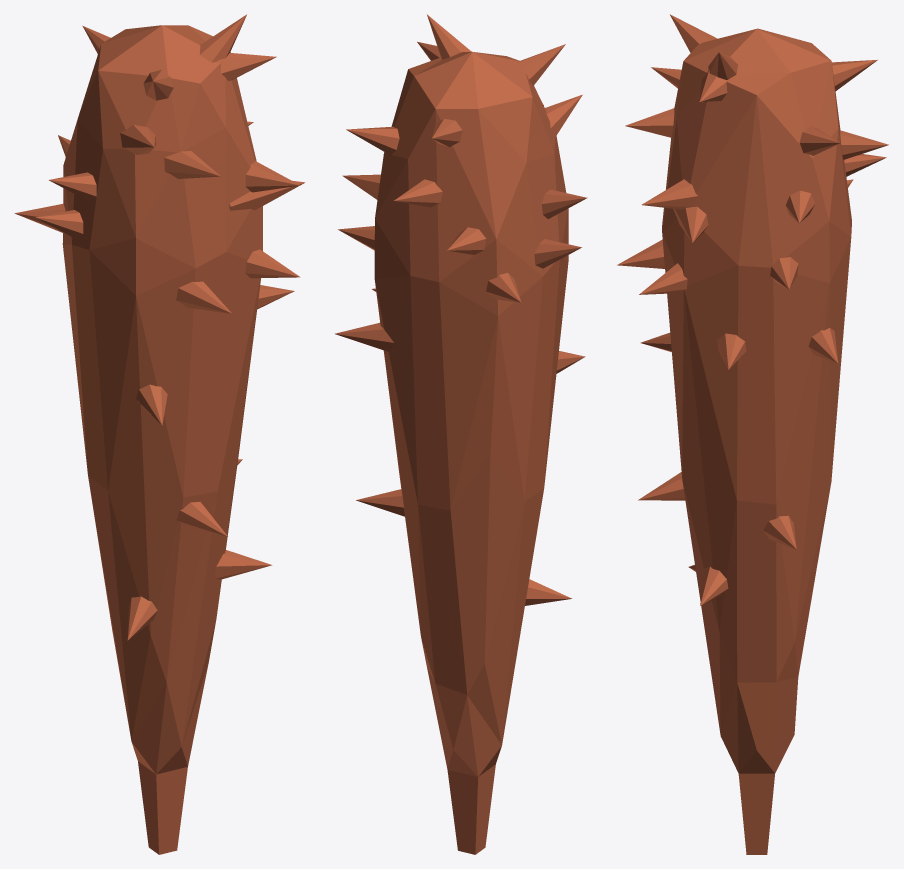
File: weapon cudgel.fbx
3 views of the same model, side by side, from view 1: azimuth 30°, elevation 25°; view 2: azimuth 150°, elevation 25°; view 3: azimuth 270°, elevation 25° (orthographic). The views are drawn at different scales.
Parts seen in each view (by area): view 1: Cube.014, Cube.014|Cone.003|Dupli|12, Cube.014|Cone.003|Dupli|9, Cube.014|Cone.003|Dupli|3, Cube.014|Cone.003|Dupli|2, Cube.014|Cone.003|Dupli|14, Cube.014|Cone.003|Dupli|13, Cube.014|Cone.003|Dupli|15, Cube.014|Cone.003|Dupli|18, Cube.014|Cone.003|Dupli|5, Cube.014|Cone.003|Dupli|6, Cube.014|Cone.003|Dupli|17 (+4 smaller); view 2: Cube.014, Cube.014|Cone.003|Dupli|21, Cube.014|Cone.003|Dupli|24, Cube.014|Cone.003|Dupli|19, Cube.014|Cone.003|Dupli|8, Cube.014|Cone.003|Dupli|, Cube.014|Cone.003|Dupli|7, Cube.014|Cone.003|Dupli|3, Cube.014|Cone.003|Dupli|10, Cube.014|Cone.003|Dupli|1, Cube.014|Cone.003|Dupli|20, Cube.014|Cone.003|Dupli|6 (+3 smaller); view 3: Cube.014, Cube.014|Cone.003|Dupli|2, Cube.014|Cone.003|Dupli|14, Cube.014|Cone.003|Dupli|17, Cube.014|Cone.003|Dupli|12, Cube.014|Cone.003|Dupli|19, Cube.014|Cone.003|Dupli|20, Cube.014|Cone.003|Dupli|9, Cube.014|Cone.003|Dupli|15, Cube.014|Cone.003|Dupli|24, Cube.014|Cone.003|Dupli|21, Cube.014|Cone.003|Dupli|13 (+7 smaller).
Part boxes in pixels (box(x1,y1,x2,y2)): Cube.014: box(62, 25, 262, 854); Cube.014|Cone.003|Dupli|12: box(164, 151, 220, 178); Cube.014|Cone.003|Dupli|9: box(176, 281, 231, 313); Cube.014|Cone.003|Dupli|3: box(199, 14, 246, 62); Cube.014|Cone.003|Dupli|2: box(245, 161, 300, 192); Cube.014|Cone.003|Dupli|14: box(245, 249, 300, 278); Cube.014|Cone.003|Dupli|13: box(176, 501, 227, 536); Cube.014|Cone.003|Dupli|15: box(214, 550, 272, 579); Cube.014|Cone.003|Dupli|18: box(216, 53, 276, 81); Cube.014|Cone.003|Dupli|5: box(127, 596, 157, 640); Cube.014|Cone.003|Dupli|6: box(120, 124, 155, 154); Cube.014|Cone.003|Dupli|17: box(229, 180, 305, 210); Cube.014: box(374, 51, 568, 854); Cube.014|Cone.003|Dupli|21: box(334, 322, 393, 352); Cube.014|Cone.003|Dupli|24: box(346, 126, 399, 155); Cube.014|Cone.003|Dupli|19: box(394, 179, 442, 207); Cube.014|Cone.003|Dupli|8: box(534, 239, 581, 268); Cube.014|Cone.003|Dupli|: box(516, 44, 565, 85); Cube.014|Cone.003|Dupli|7: box(542, 189, 587, 218); Cube.014|Cone.003|Dupli|3: box(427, 14, 471, 59); Cube.014|Cone.003|Dupli|10: box(447, 227, 486, 254); Cube.014|Cone.003|Dupli|1: box(486, 272, 521, 302); Cube.014|Cone.003|Dupli|20: box(356, 489, 404, 516); Cube.014|Cone.003|Dupli|6: box(545, 94, 582, 137); Cube.014: box(662, 28, 851, 854); Cube.014|Cone.003|Dupli|2: box(641, 179, 697, 209); Cube.014|Cone.003|Dupli|14: box(639, 263, 687, 294); Cube.014|Cone.003|Dupli|17: box(673, 206, 708, 242); Cube.014|Cone.003|Dupli|12: box(625, 108, 674, 137); Cube.014|Cone.003|Dupli|19: box(840, 130, 888, 159); Cube.014|Cone.003|Dupli|20: box(763, 515, 796, 549); Cube.014|Cone.003|Dupli|9: box(617, 239, 664, 268); Cube.014|Cone.003|Dupli|15: box(700, 566, 728, 605); Cube.014|Cone.003|Dupli|24: box(799, 126, 840, 155); Cube.014|Cone.003|Dupli|21: box(808, 328, 838, 363); Cube.014|Cone.003|Dupli|13: box(638, 472, 685, 500).
Bounding box in the file's own units: 112 × 366 × 109.
